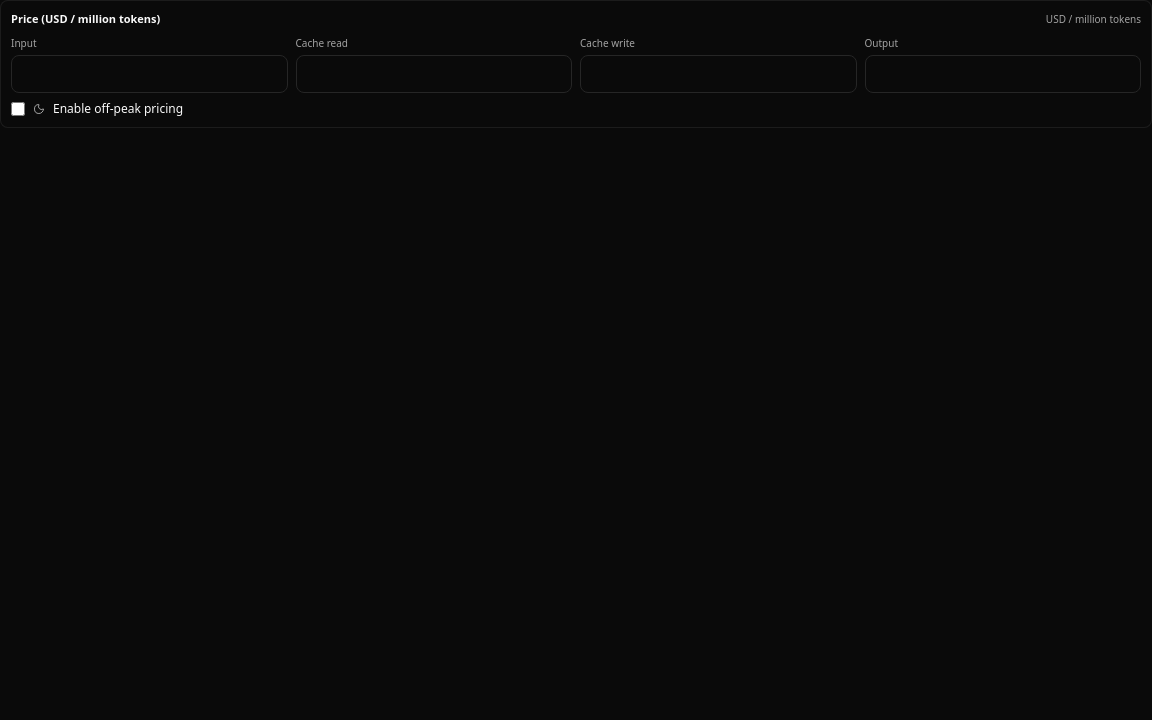
it: MappingPriceEditor 映射行价格编辑器 › mapping_price_editor_toggles_off_peak_and_adds_default_window
What coordinates should you click on to do the following:
click the checkbox with test id "ai-gateway-price-0-off-peak"
I would click on:
 (18, 108)
Its box is [11,102,25,116].
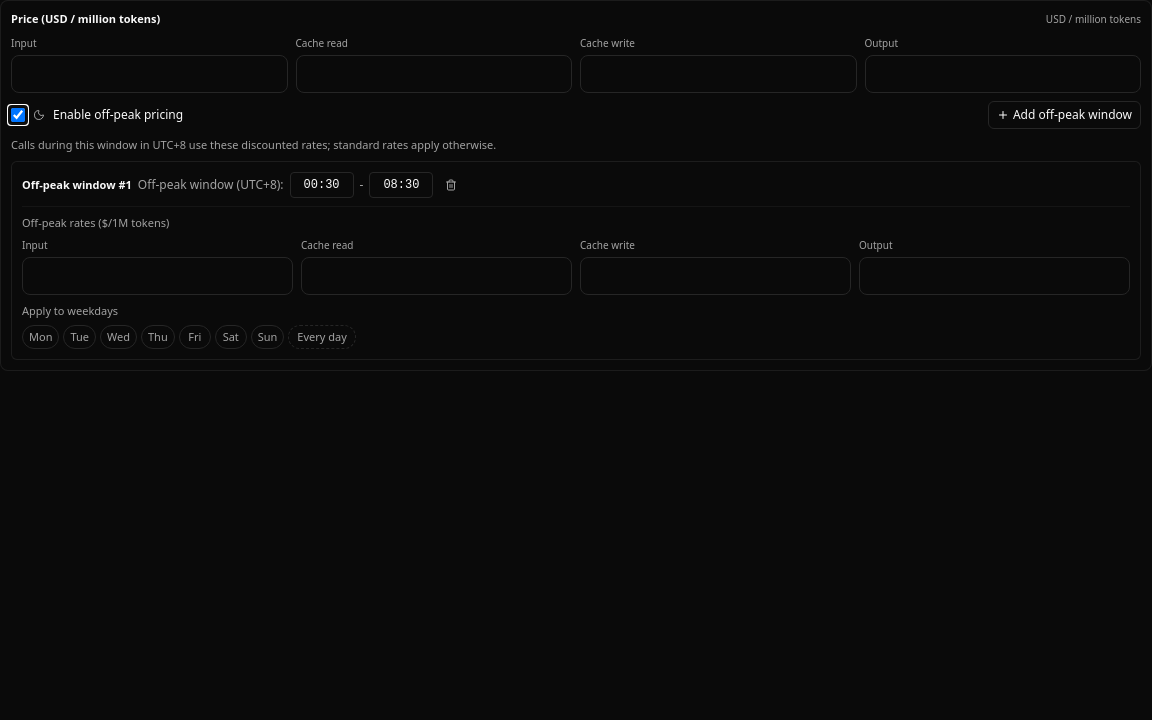
Now the field with test id "ai-gateway-off-peak-0-start-0" is shown, box [290,172,354,198]
Now the field with test id "ai-gateway-off-peak-0-end-0" is shown, box [369,172,433,198]
Now the number field with test id "ai-gateway-off-peak-0-input-0" is shown, box [22,256,293,294]
What coordinates should you click on to do the following:
click the button with test id "ai-gateway-off-peak-0-add"
I would click on:
 (1064, 114)
Its box is [988,100,1141,128].
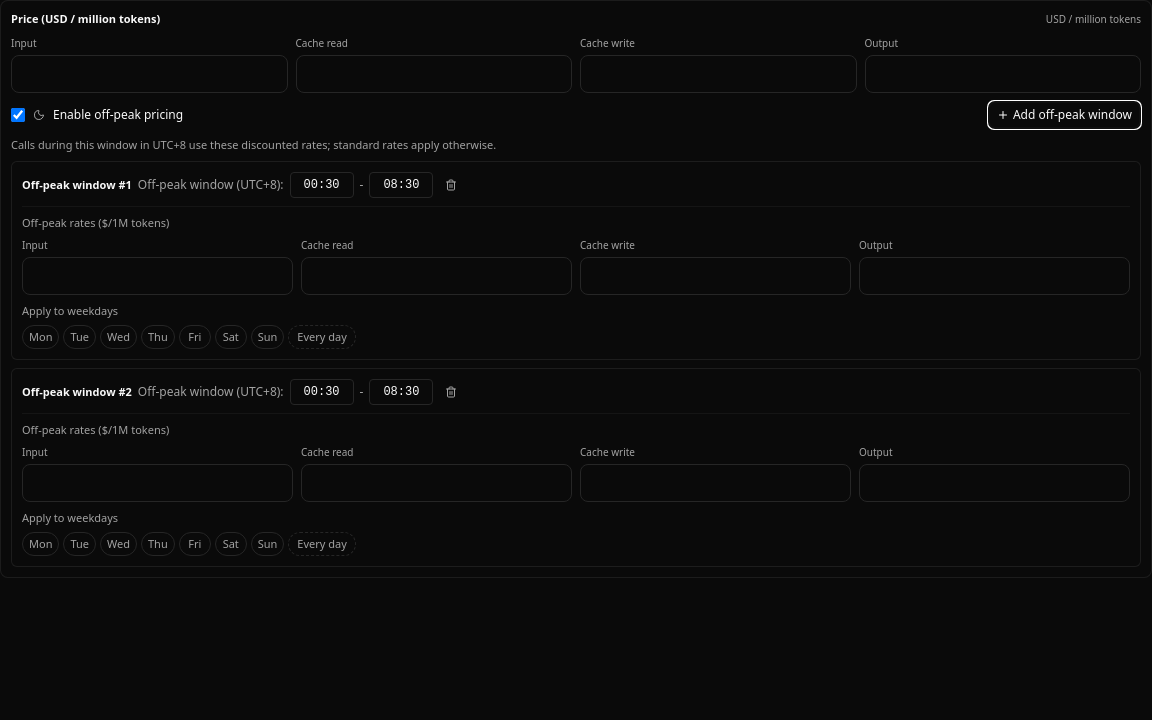
What coordinates should you click on to do the following:
click the button with test id "ai-gateway-off-peak-0-remove-1"
I would click on:
 (451, 392)
Its box is [439,380,463,404].
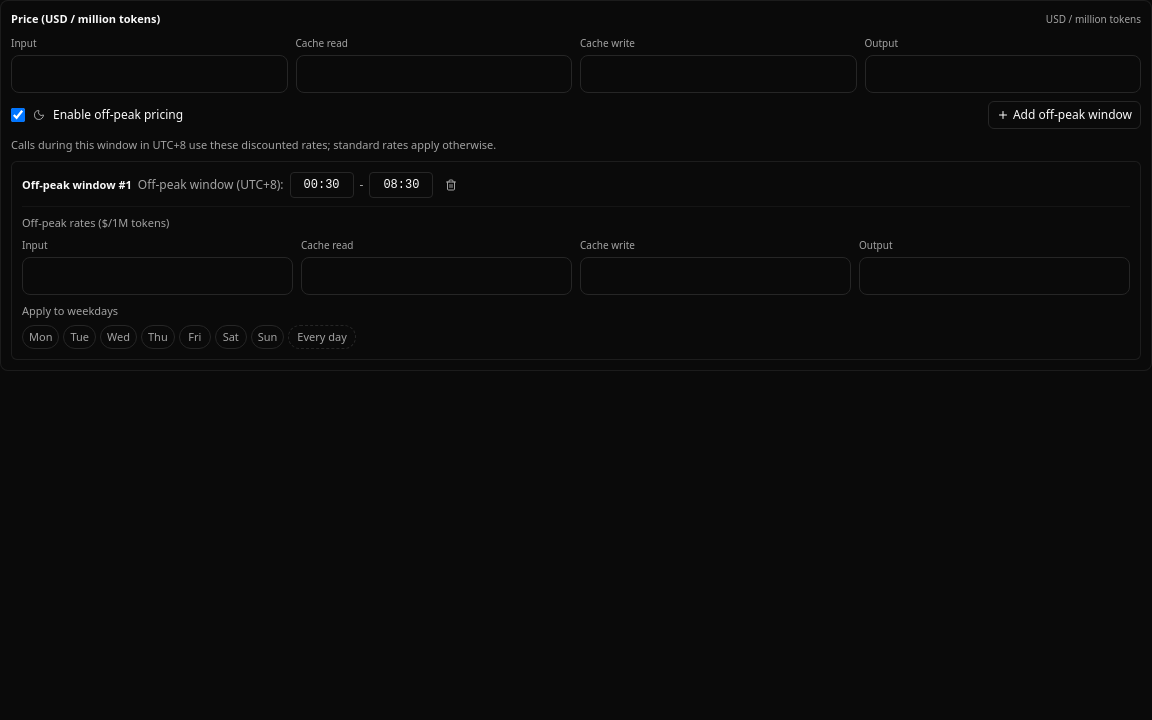
What coordinates should you click on to do the following:
click the checkbox with test id "ai-gateway-price-0-off-peak"
I would click on:
 (18, 114)
Its box is [11,108,25,122].
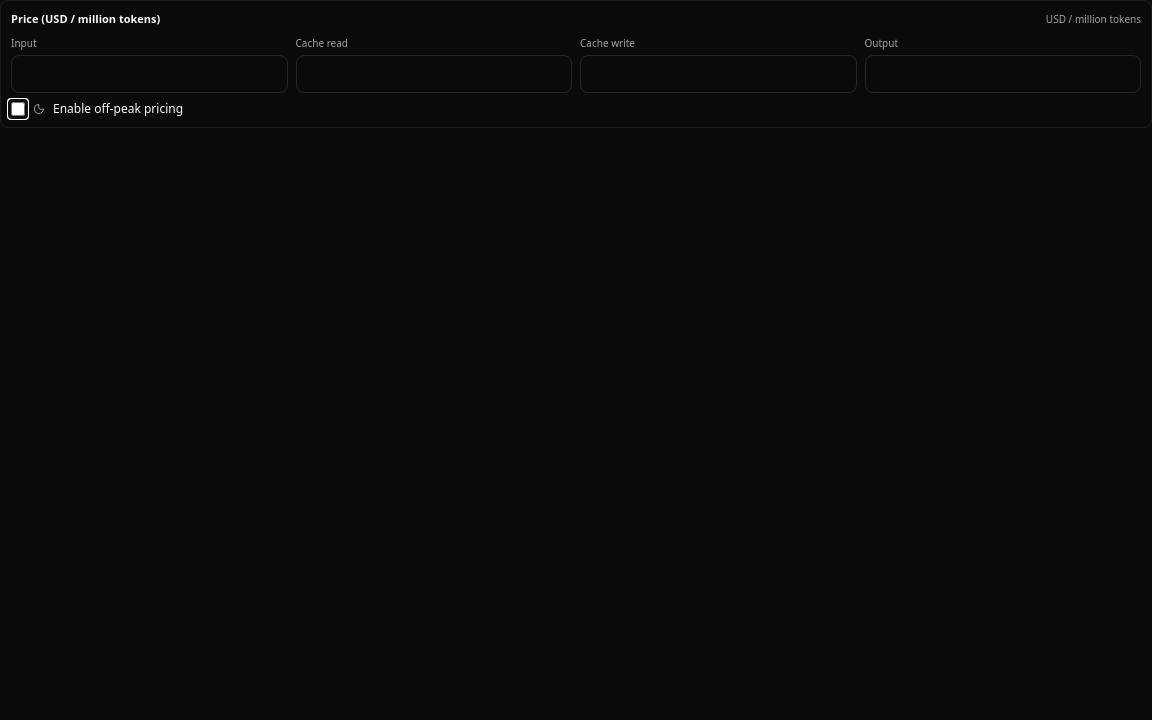
Now the field with test id "ai-gateway-off-peak-0-start-0" is gone
